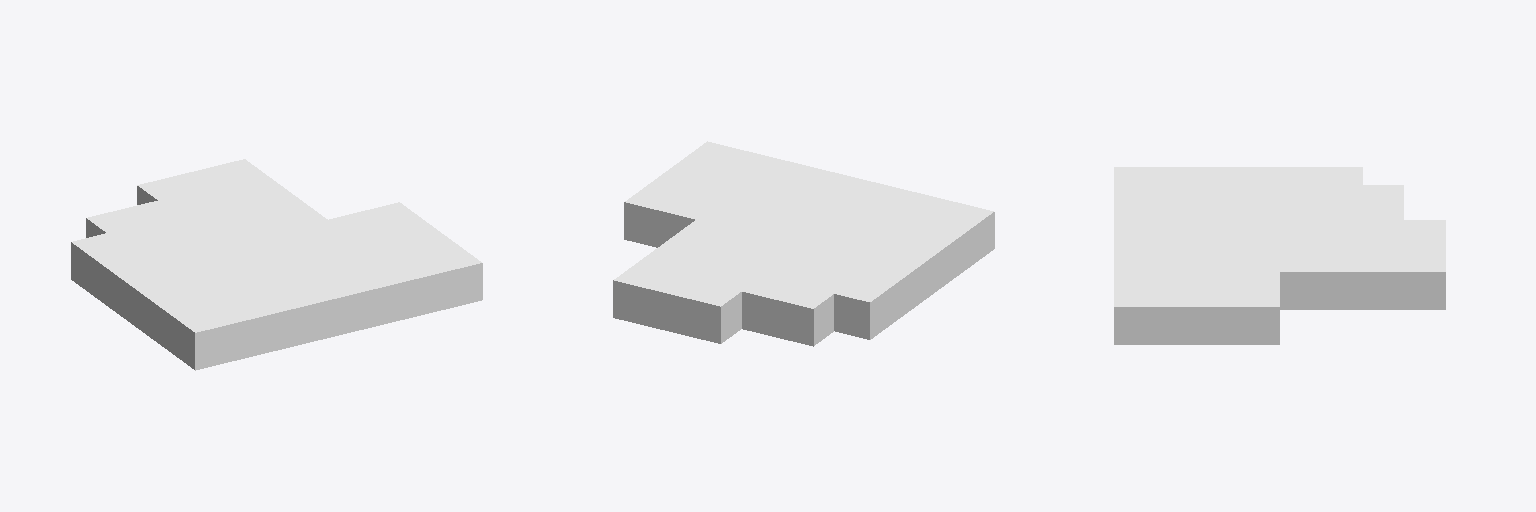
File: yellow-keycard-0-yellow-keycard.obj
The picture shows the model from 3 angles: view 1: azimuth 30°, elevation 25°; view 2: azimuth 150°, elevation 25°; view 3: azimuth 270°, elevation 25°; orthographic projection.
Parts seen in each view (by area): view 1: yellow-keycard; view 2: yellow-keycard; view 3: yellow-keycard.
Part boxes in pixels (left/top/right/bottom): yellow-keycard: left=71, top=159, right=482, bottom=370; yellow-keycard: left=613, top=141, right=994, bottom=346; yellow-keycard: left=1114, top=167, right=1445, bottom=344.
Bounding box in the file's own units: 0.8 × 0.1 × 0.8.